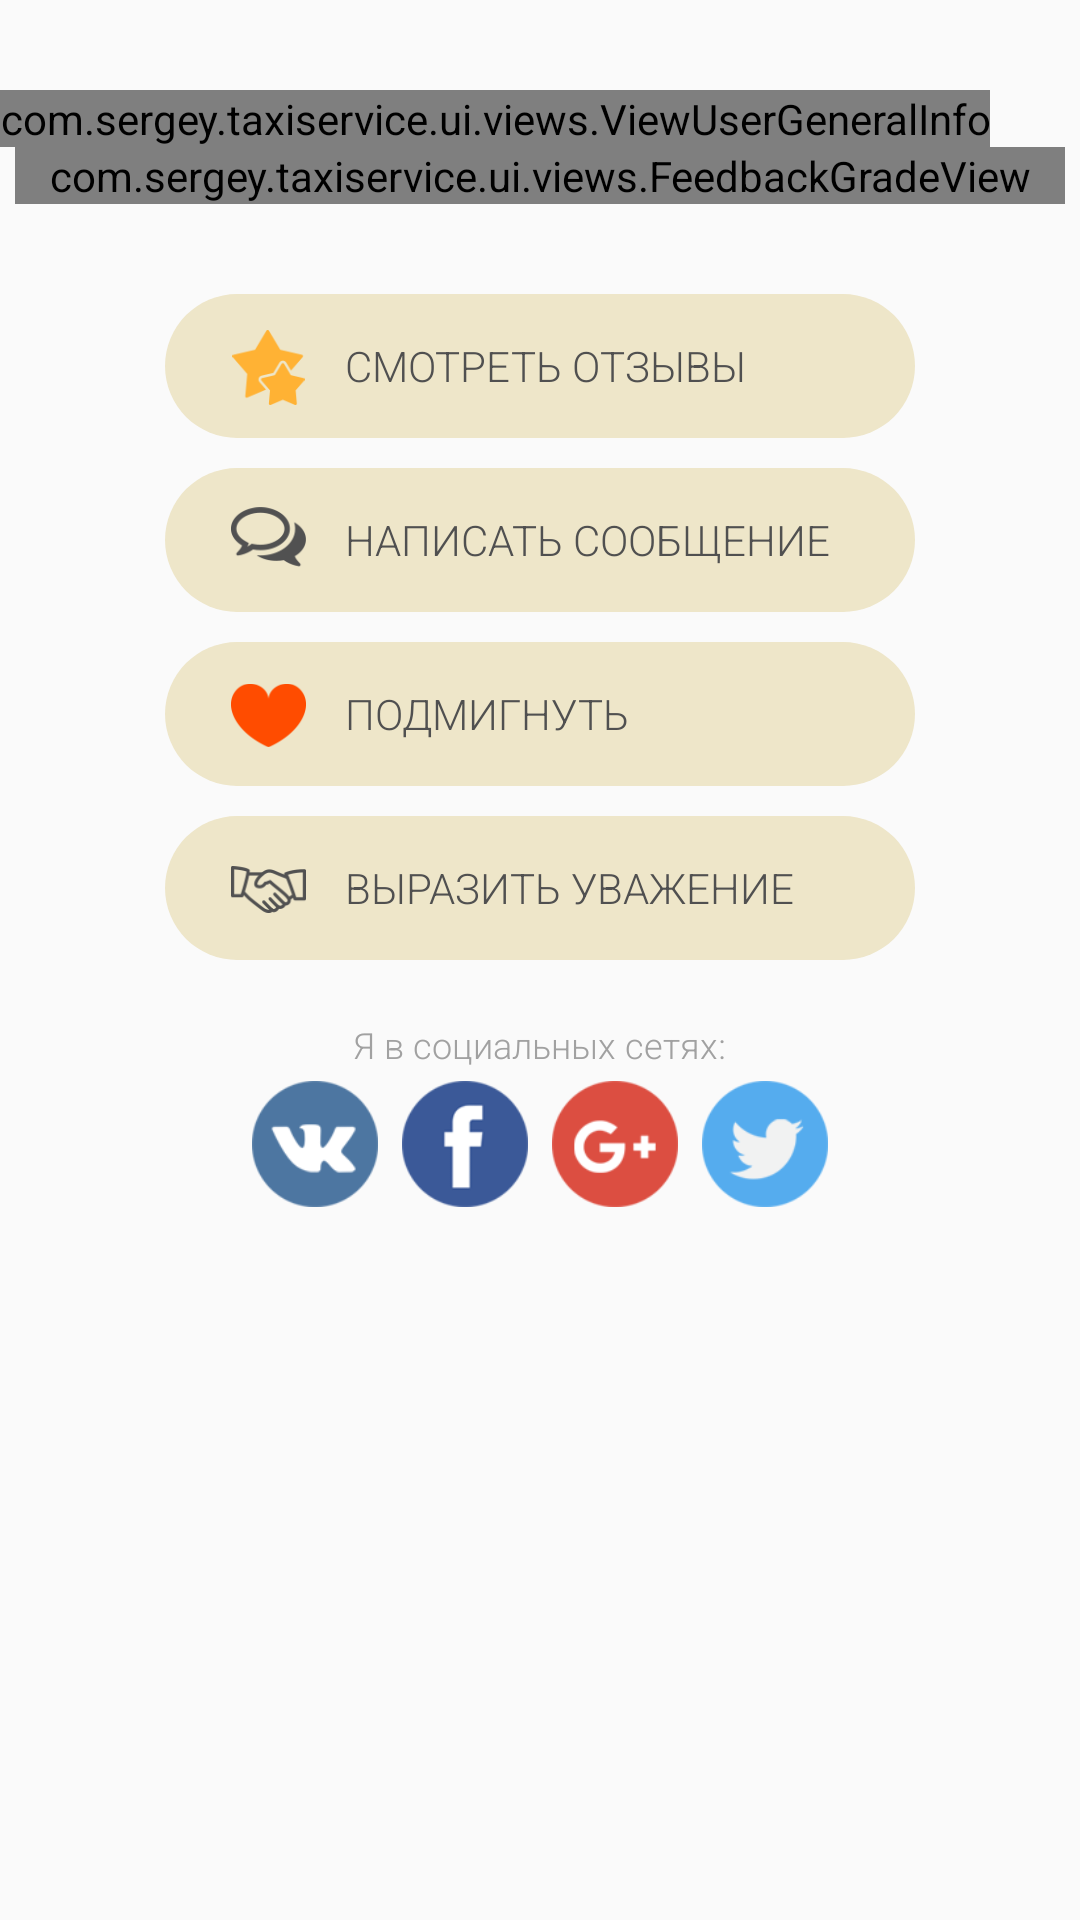

Named icons in this screenshot (1080×1920) and their centers, (x=x, y=y):
comments: (x=268, y=537)
handshake: (x=268, y=889)
heart: (x=268, y=715)
stars: (x=268, y=367)
